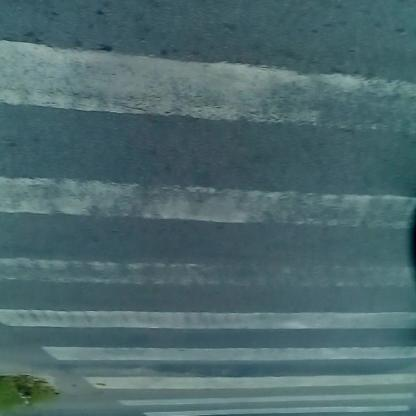crosswalk: (6, 38, 415, 412)
